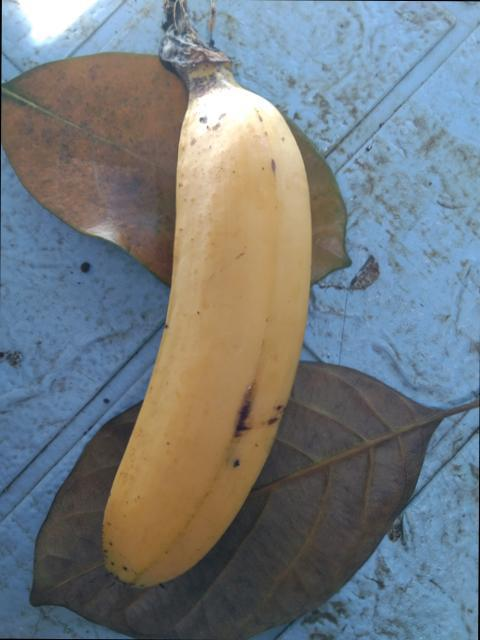freshripe: (58, 75, 328, 614)
